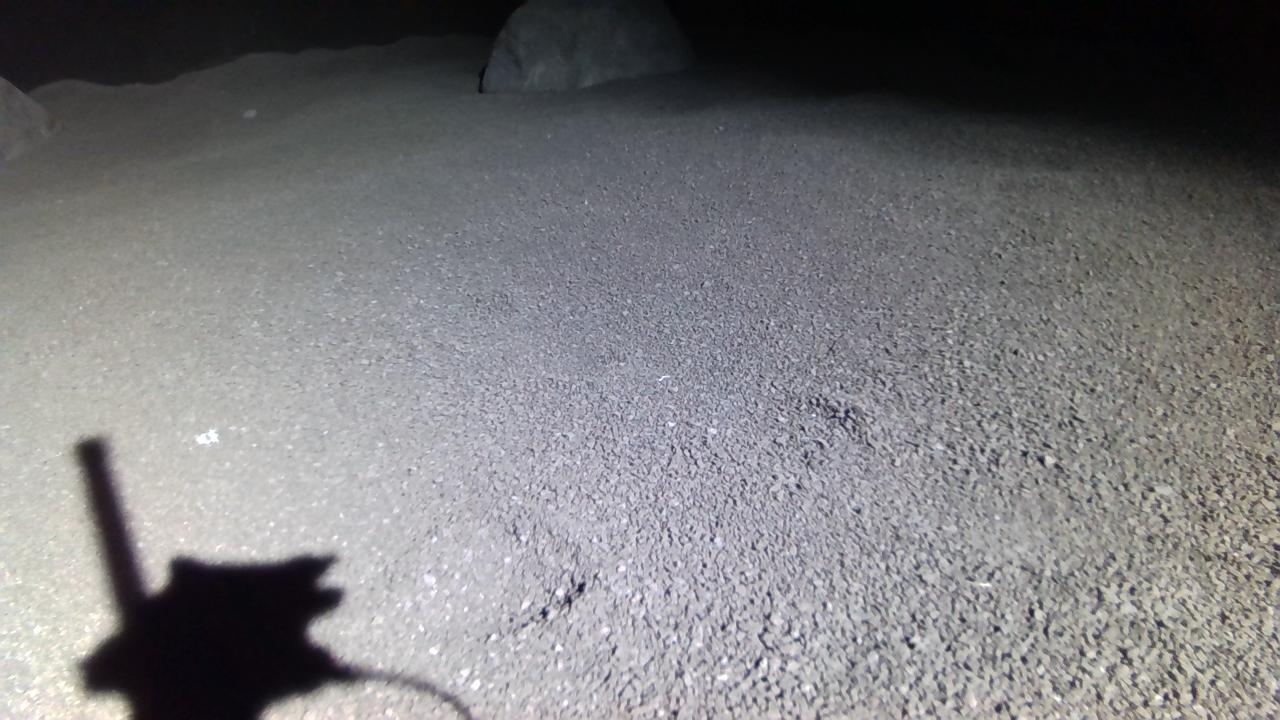rock: (483, 0, 695, 91), (0, 76, 50, 163)
